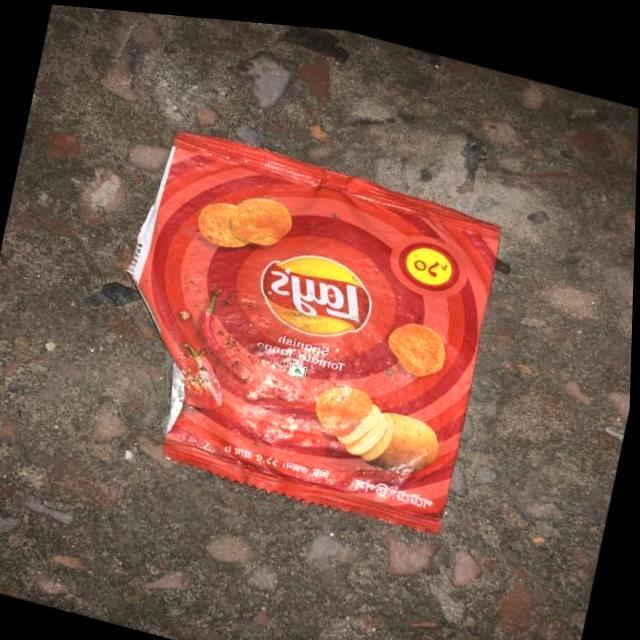packet: (87, 123, 514, 545)
